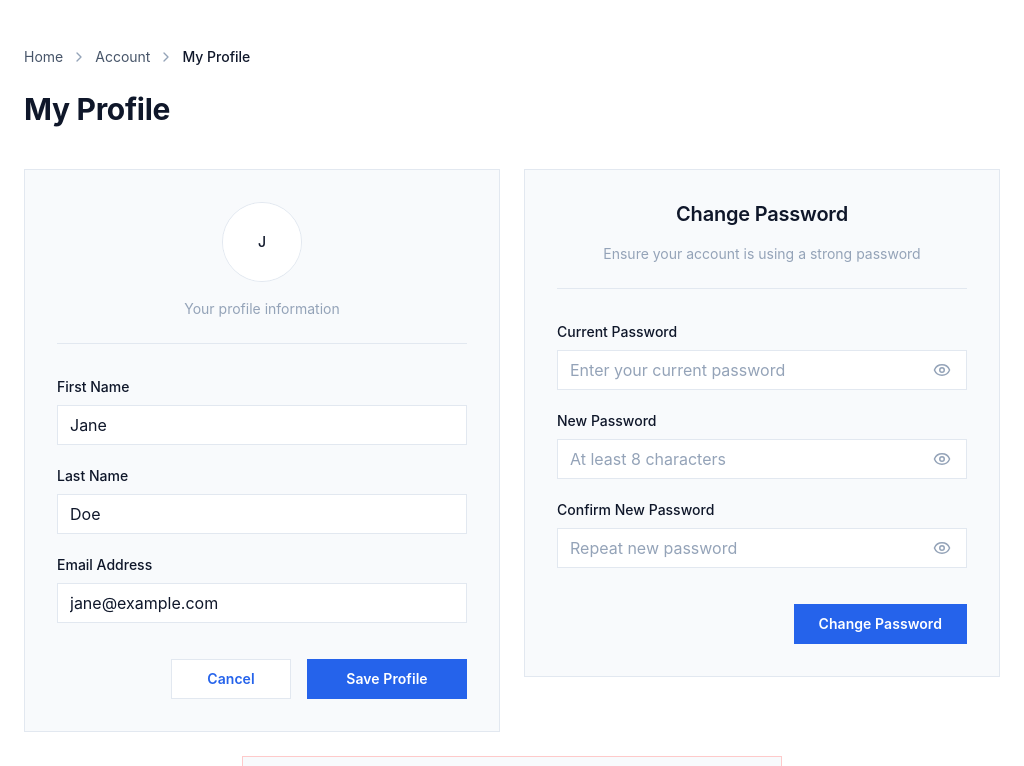
Test case: ProfilePage › sends an email change for verification instead of reporting it as verified
Replace the text in the field labelled "Email Address" with "new@example.com" at (262, 602), box [57,582,467,622]
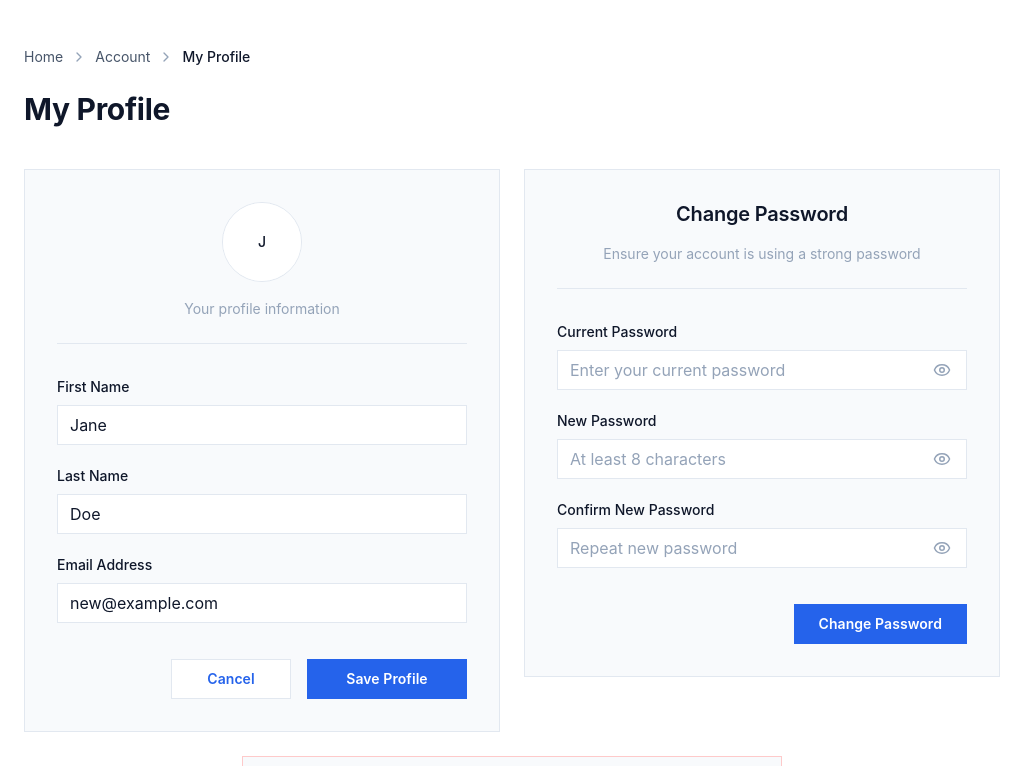
Click the button "Save Profile".
click(387, 678)  # box [307,658,467,698]
(page scrolled)
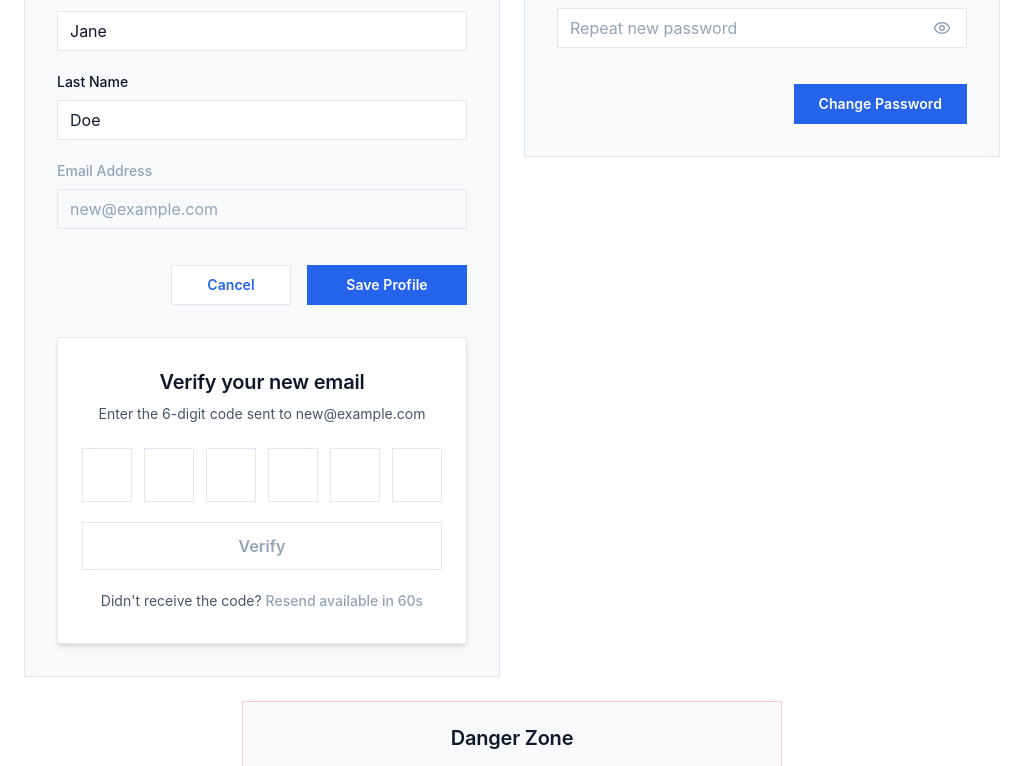
Result: the heading "Verify your new email" is shown at [160,370,365,394]
